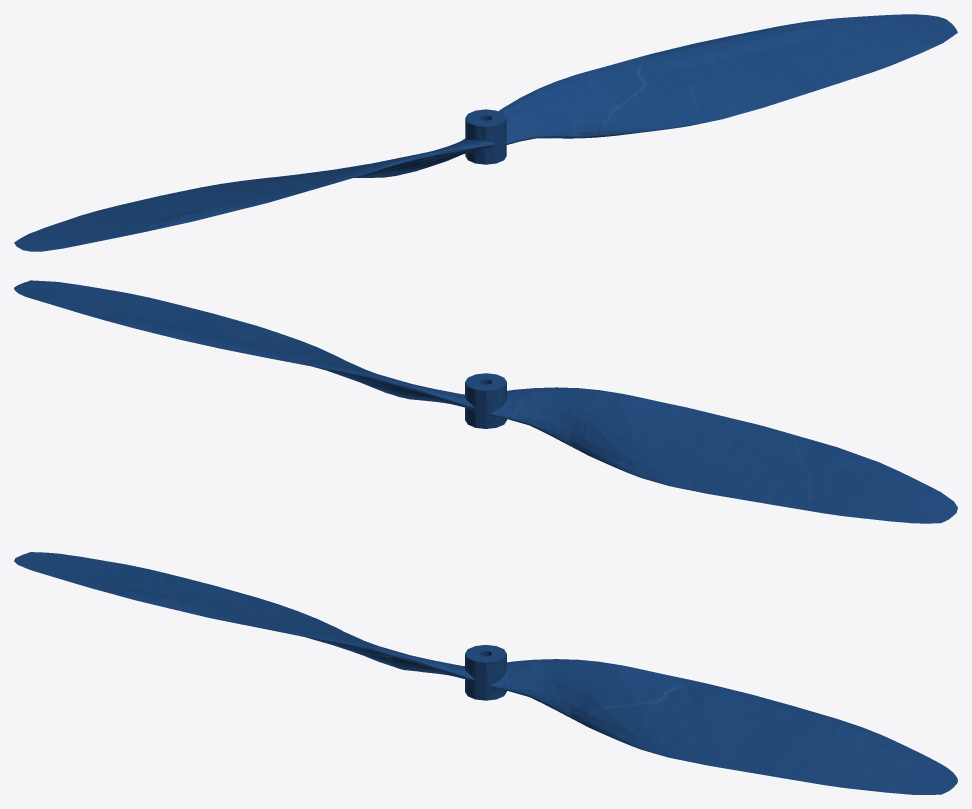
Rendered from iris_prop_ccw.dae.
3 renders of one model, top to bottom at view 1: azimuth 30°, elevation 25°; view 2: azimuth 150°, elevation 25°; view 3: azimuth 330°, elevation 25°, orthographic.
Visible parts, largest first — view 1: EPP1045_A; view 2: EPP1045_A; view 3: EPP1045_A.
Part boxes in pixels (bbox=[...]): EPP1045_A: bbox=[14, 14, 957, 251]; EPP1045_A: bbox=[14, 280, 957, 523]; EPP1045_A: bbox=[14, 552, 957, 794].
Bounding box in the file's own units: 0.2577 × 0.028 × 0.0103.
1 material, 1 textured.
